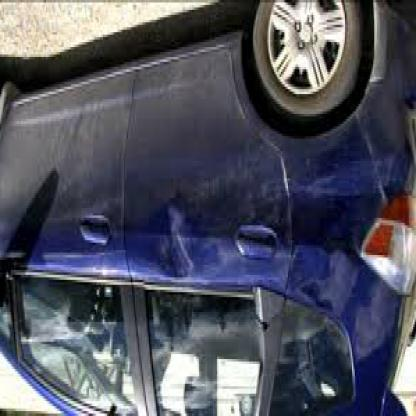dent: (147, 197, 198, 286), (300, 261, 348, 318)
